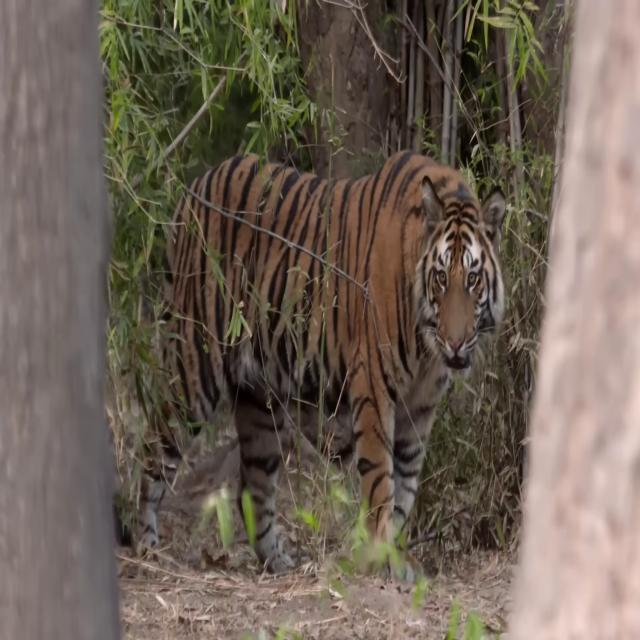tiger: (134, 150, 507, 584)
